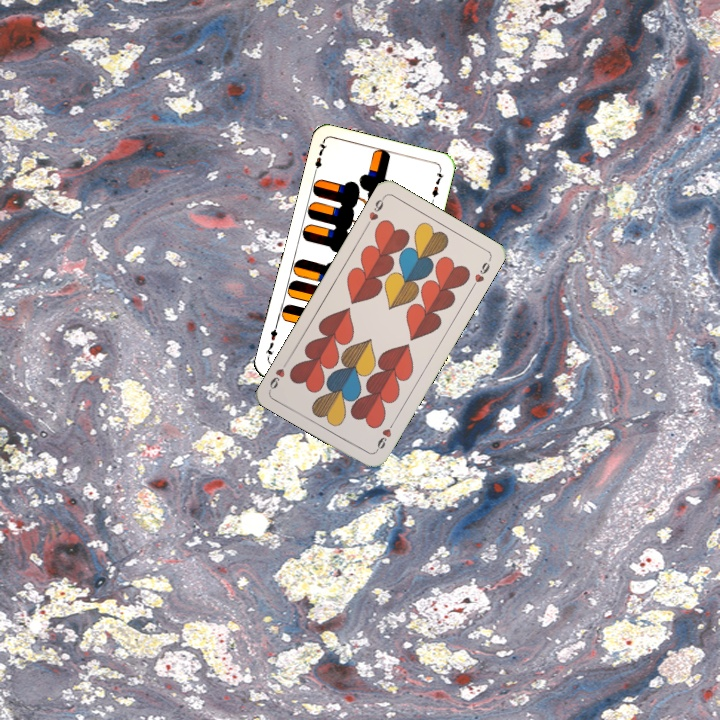E7: (310, 138, 329, 178)
H9: (361, 193, 387, 230), (371, 418, 397, 454)
